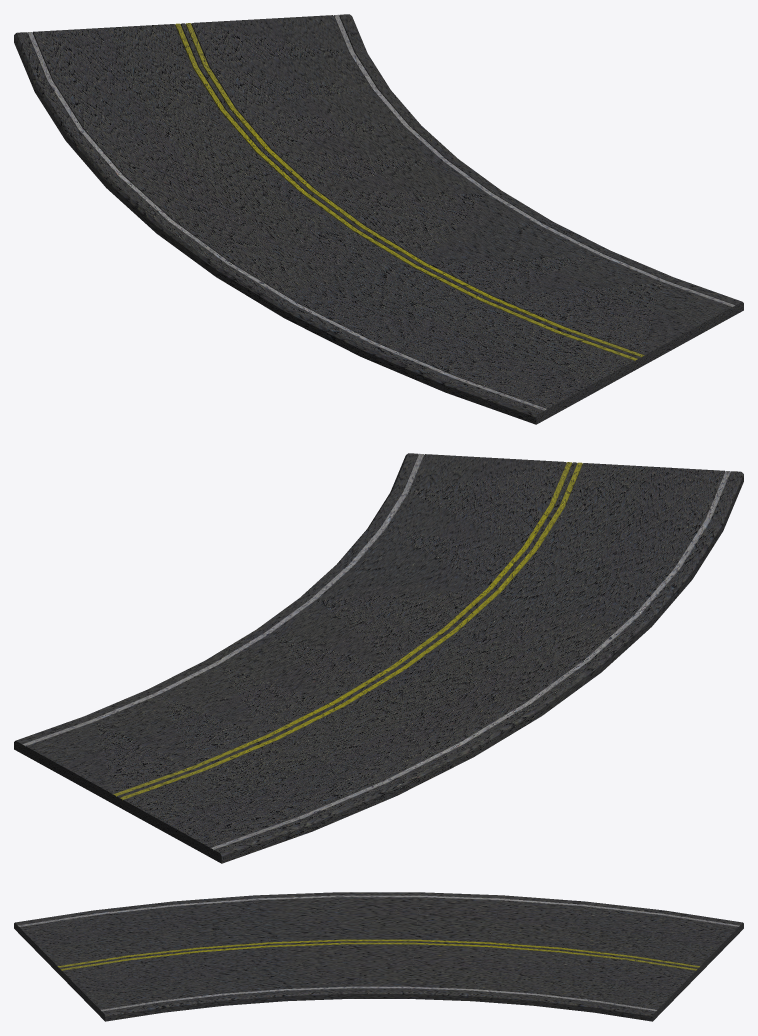
3 renders of one model, top to bottom at view 1: azimuth 30°, elevation 25°; view 2: azimuth 150°, elevation 25°; view 3: azimuth 270°, elevation 25°, orthographic. The views are drawn at different scales.
Parts seen in each view (by area): view 1: Cube.014_Cube.164; view 2: Cube.014_Cube.164; view 3: Cube.014_Cube.164.
Part boxes in pixels (x1,y1,x2,y2): Cube.014_Cube.164: (14, 14, 743, 424); Cube.014_Cube.164: (14, 453, 743, 863); Cube.014_Cube.164: (14, 892, 743, 1021).
Size of the model in its own units: 19.59 by 0.5 by 48.98.
